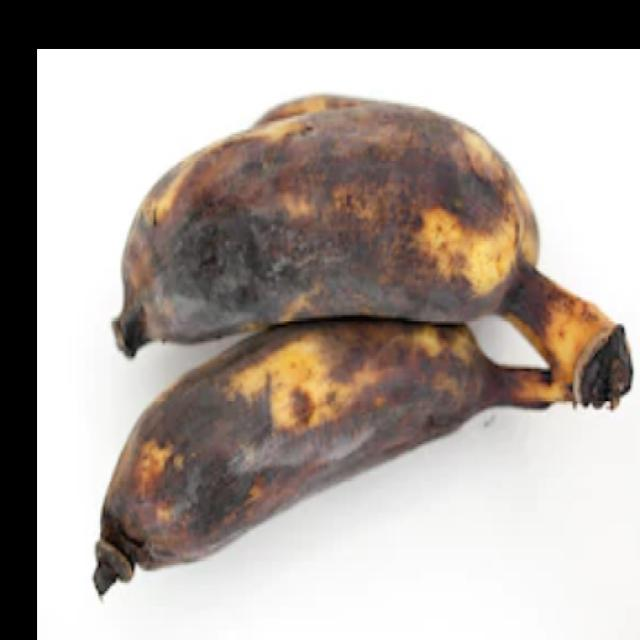Rotten: (72, 81, 640, 359), (59, 303, 566, 584)
